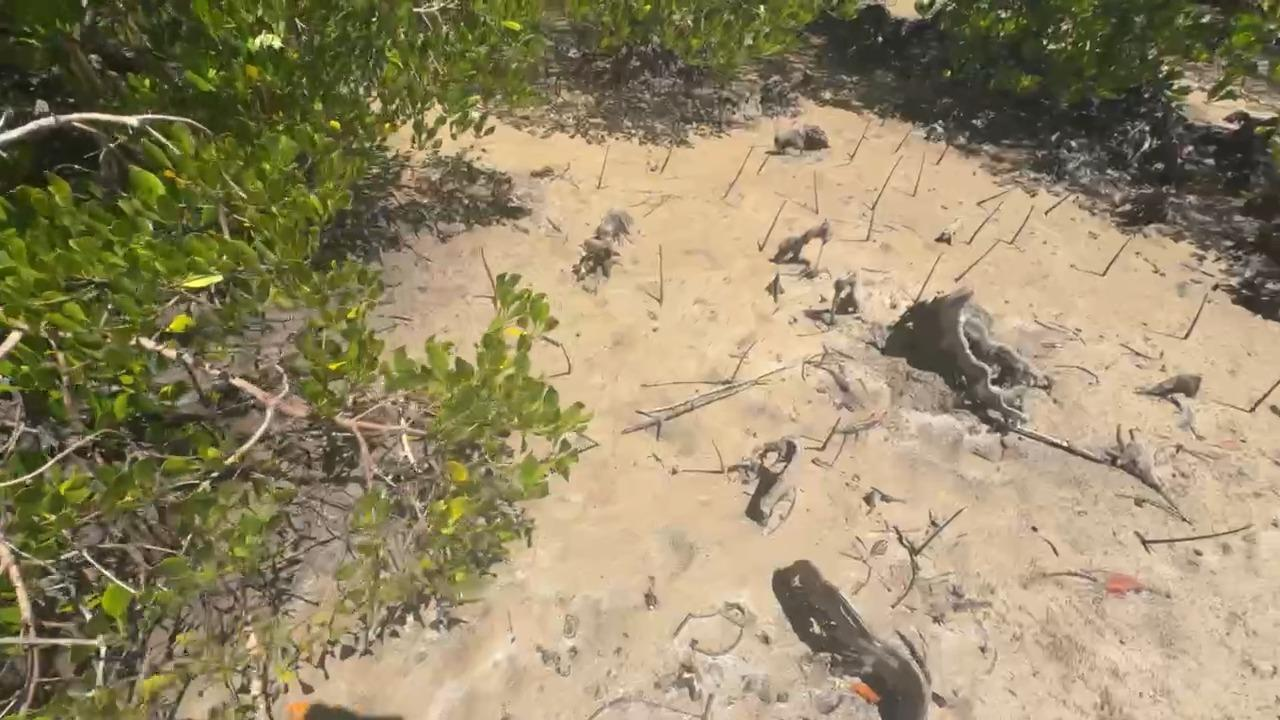Tree: (915, 506, 968, 555), (1144, 522, 1254, 545), (954, 239, 999, 282), (871, 156, 903, 211), (968, 201, 1003, 245), (724, 146, 754, 197), (759, 200, 786, 252), (915, 255, 941, 303), (1183, 293, 1208, 340), (731, 339, 759, 380), (1103, 238, 1131, 276), (1009, 204, 1034, 244), (1249, 380, 1280, 412), (977, 185, 1020, 205), (849, 120, 870, 159), (1044, 190, 1074, 215), (480, 247, 496, 293), (821, 416, 842, 451), (912, 152, 926, 199), (598, 146, 609, 189), (895, 129, 913, 153), (711, 440, 724, 472), (660, 145, 673, 174), (561, 343, 572, 374), (937, 141, 951, 164), (658, 244, 663, 306), (866, 208, 875, 240), (813, 170, 819, 214), (755, 155, 768, 175)
